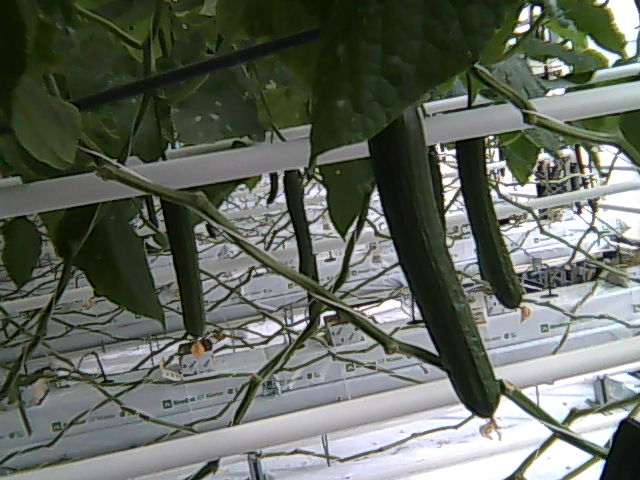concombre: (367, 104, 507, 444)
